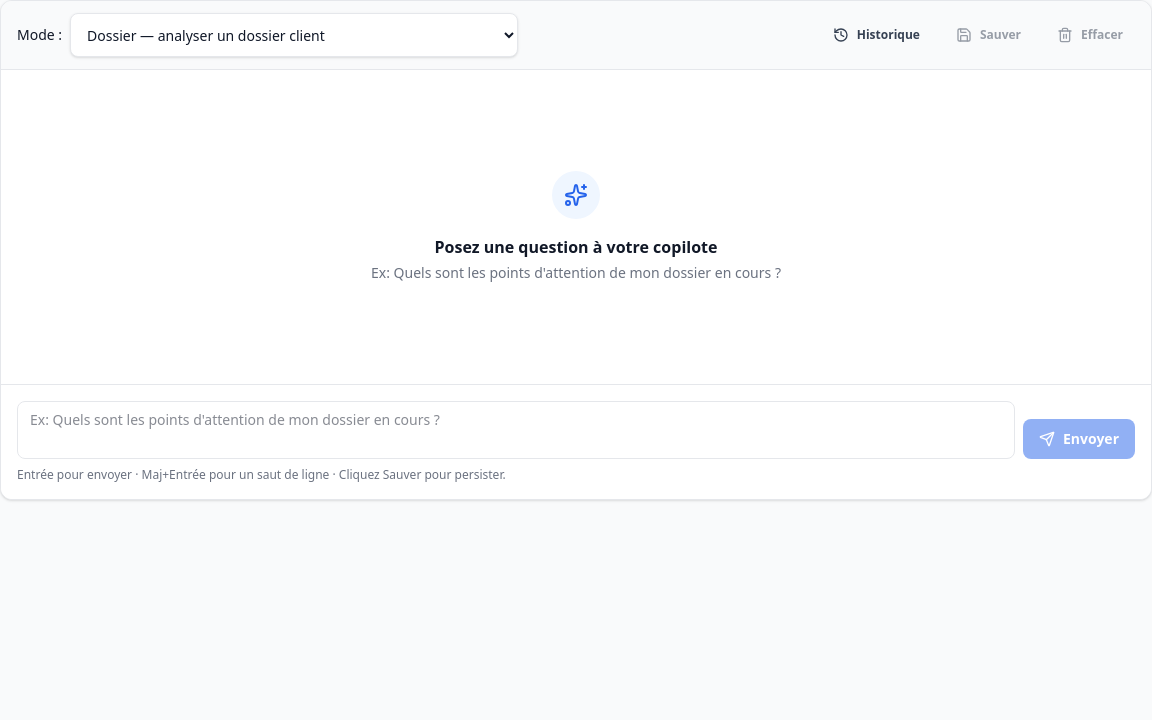
Scenario: ChatInterface › affiche une erreur quand le fetch echoue
Replace the text in the text box named "votre question" with "Hello" at (516, 430), box x1=17 y1=401 x2=1015 y2=459
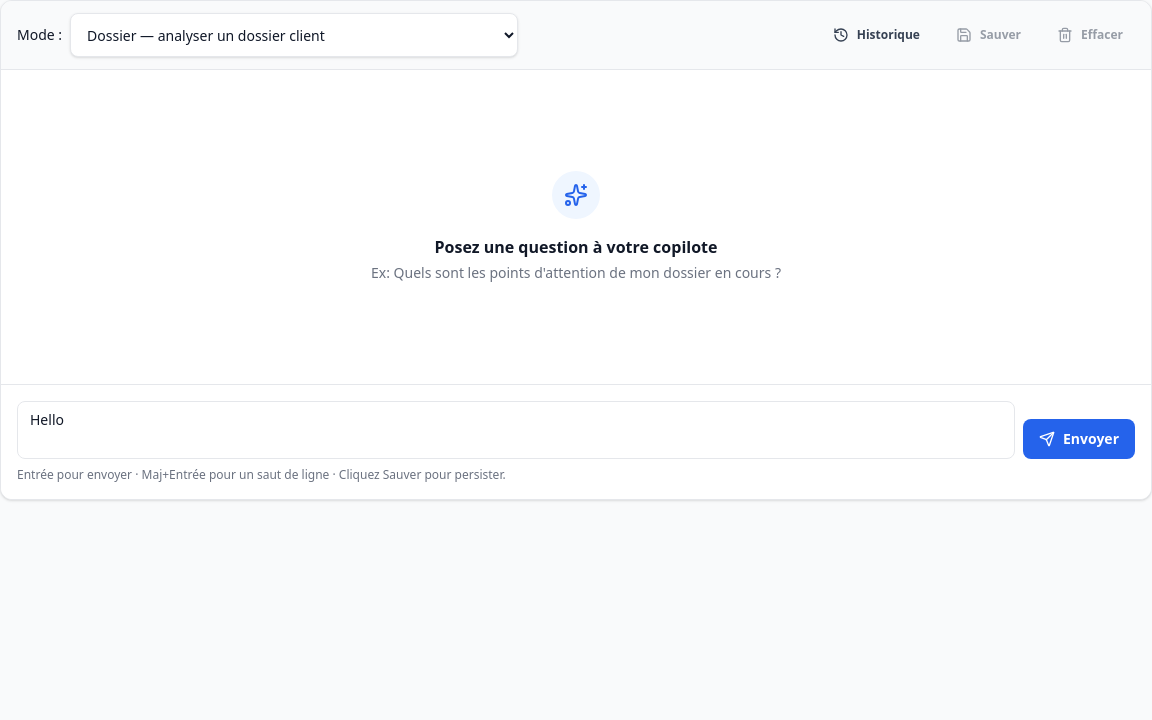
Click the button with aria-label "envoyer la question".
click(1079, 439)  # box x1=1023 y1=419 x2=1135 y2=459
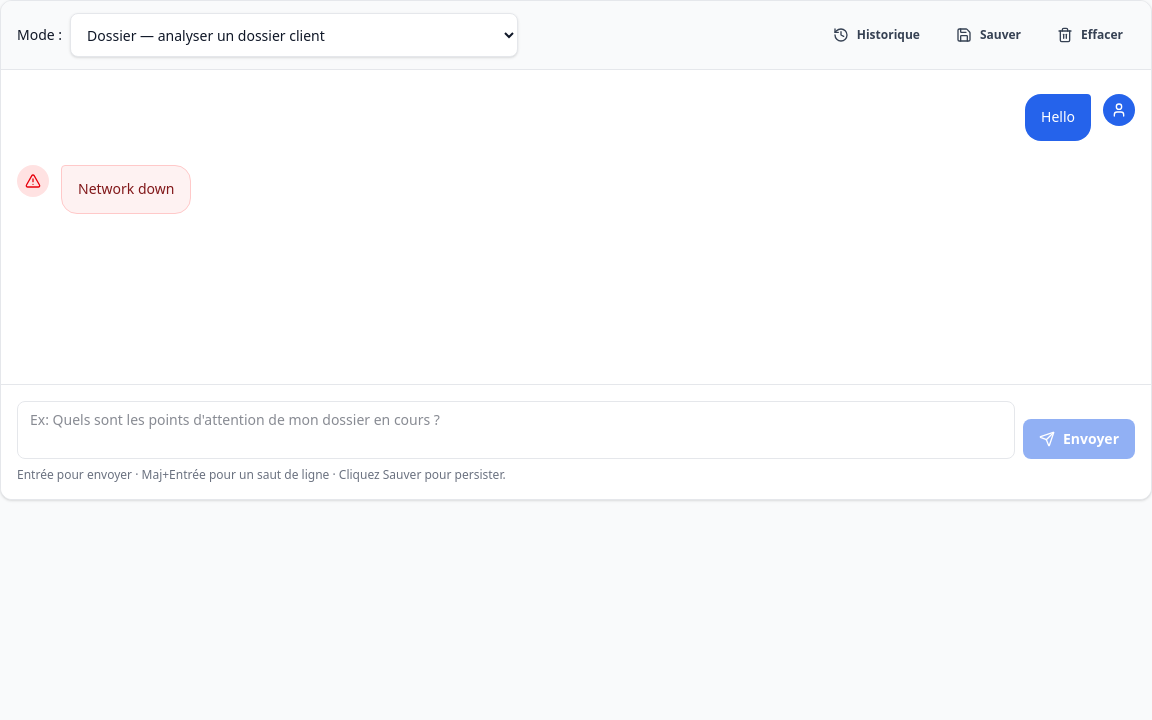
Expected: the message reads "Network down", x1=78 y1=179 x2=174 y2=198
